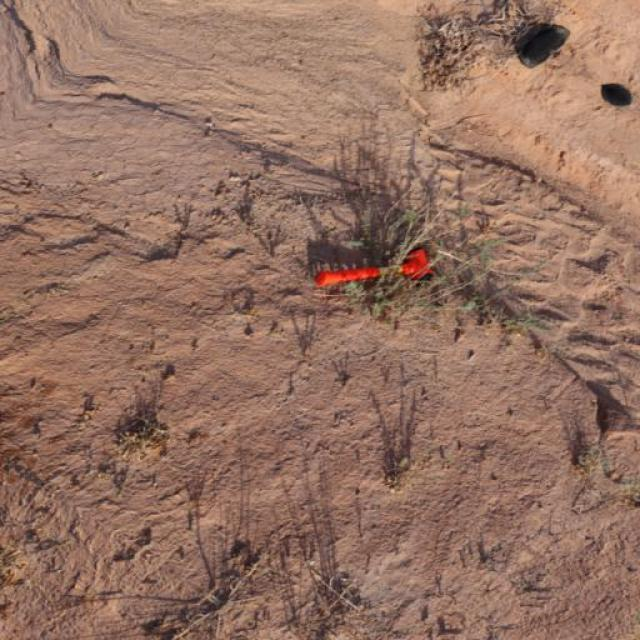mallet: (312, 246, 433, 288)
